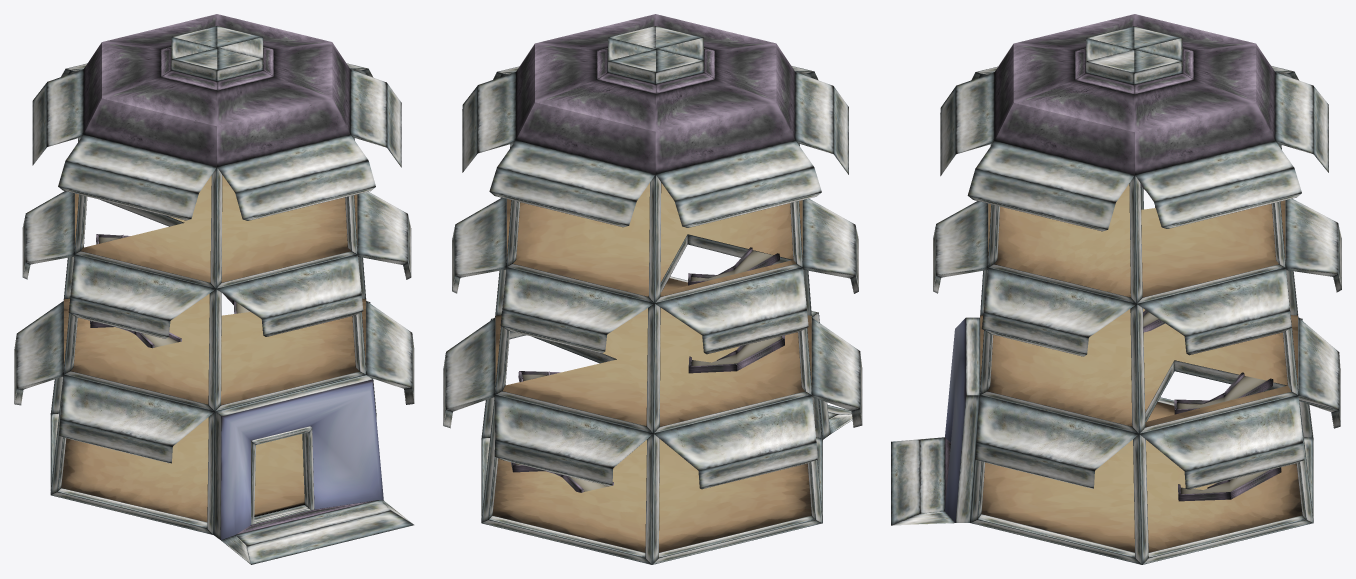
Rendered from hexagon_glass_3store.DAE.
3 renders of one model, left to right at view 1: azimuth 30°, elevation 25°; view 2: azimuth 150°, elevation 25°; view 3: azimuth 270°, elevation 25°, orthographic. The views are drawn at different scales.
Parts seen in each view (by area): view 1: Cylinder01, Object01; view 2: Cylinder01, Object01; view 3: Cylinder01, Object01.
Part boxes in pixels (x1,y1,x2,y2): Cylinder01: (14,14,414,564); Object01: (90,234,250,348); Cylinder01: (443,14,862,564); Object01: (511,247,784,492); Cylinder01: (891,14,1341,564); Object01: (1140,183,1281,501).
Size of the model in its own units: 42.59 by 46.99 by 44.23.
